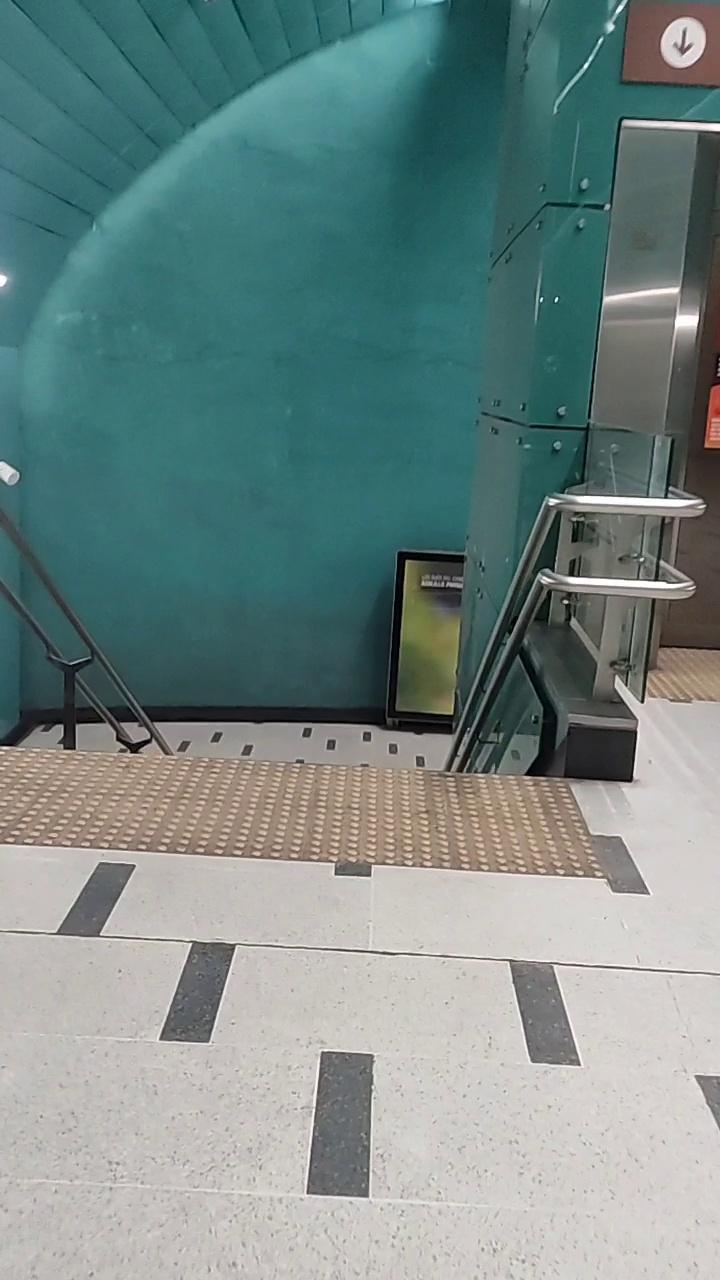down arrow: (656, 4, 720, 82)
